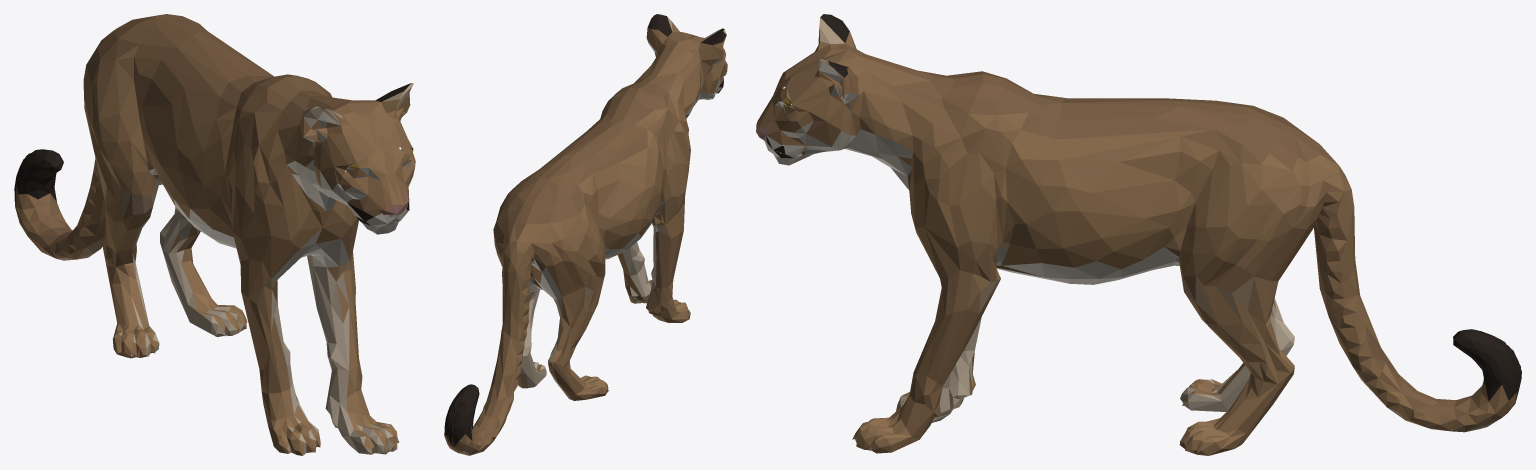
File: cougar.glb
3 views of the same model, side by side, from view 1: azimuth 30°, elevation 25°; view 2: azimuth 150°, elevation 25°; view 3: azimuth 270°, elevation 25° (orthographic). The views are drawn at different scales.
Parts seen in each view (by area): view 1: lod0; view 2: lod0; view 3: lod0.
Part boxes in pixels (left/top/right/bottom): lod0: left=14, top=14, right=415, bottom=455; lod0: left=444, top=14, right=727, bottom=455; lod0: left=756, top=14, right=1521, bottom=455.
Size of what is drawn, in the model's own units: 0.3033 by 0.8005 by 1.43.
